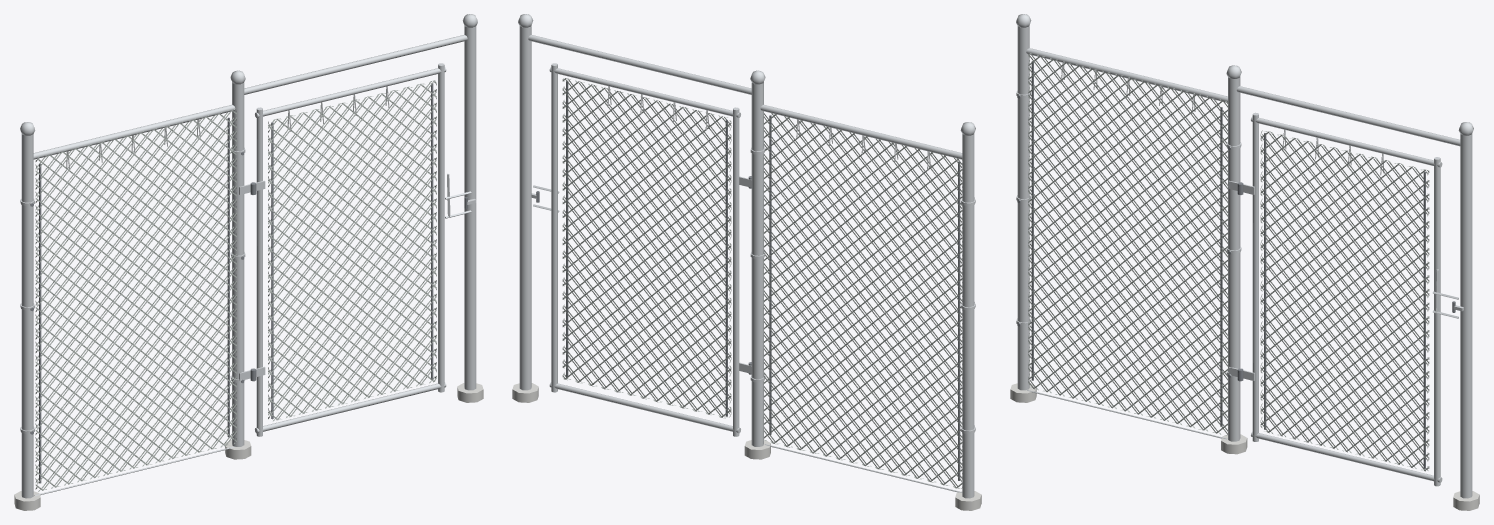
The model's file is Fence_ChainGate.fbx.
3 views of the same model, side by side, from view 1: azimuth 30°, elevation 25°; view 2: azimuth 150°, elevation 25°; view 3: azimuth 330°, elevation 25° (orthographic).
Parts seen in each view (by area): view 1: LOD0; view 2: LOD0; view 3: LOD0.
Part boxes in pixels (<box>): LOD0: <box>14,14,483,510</box>; LOD0: <box>512,14,981,510</box>; LOD0: <box>1010,14,1479,510</box>.
Size of what is drawn, in the model's own units: 257 by 202 by 13.
